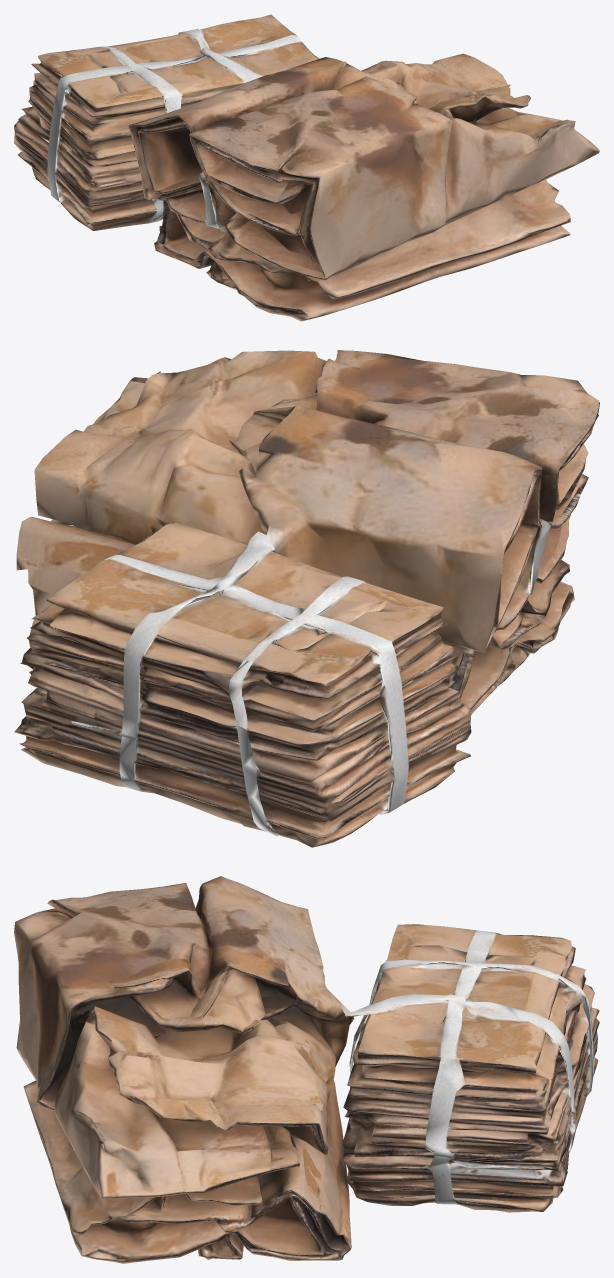
The model's file is cardboard.glb.
The picture shows the model from 3 angles, top to bottom: view 1: azimuth 30°, elevation 25°; view 2: azimuth 150°, elevation 25°; view 3: azimuth 270°, elevation 25°; orthographic projection. The views are drawn at different scales.
Visible parts, largest first — view 1: tripo_node_f148c95d-7ccc-4bce-bbab-a2c79c87043c; view 2: tripo_node_f148c95d-7ccc-4bce-bbab-a2c79c87043c; view 3: tripo_node_f148c95d-7ccc-4bce-bbab-a2c79c87043c.
Part boxes in pixels (x1=…): tripo_node_f148c95d-7ccc-4bce-bbab-a2c79c87043c: x1=14, y1=14, x2=599, y2=321; tripo_node_f148c95d-7ccc-4bce-bbab-a2c79c87043c: x1=14, y1=350, x2=599, y2=847; tripo_node_f148c95d-7ccc-4bce-bbab-a2c79c87043c: x1=14, y1=876, x2=599, y2=1263.
Size of the model in its own units: 0.8281 by 0.3645 by 0.9.
1 material, 1 textured.
